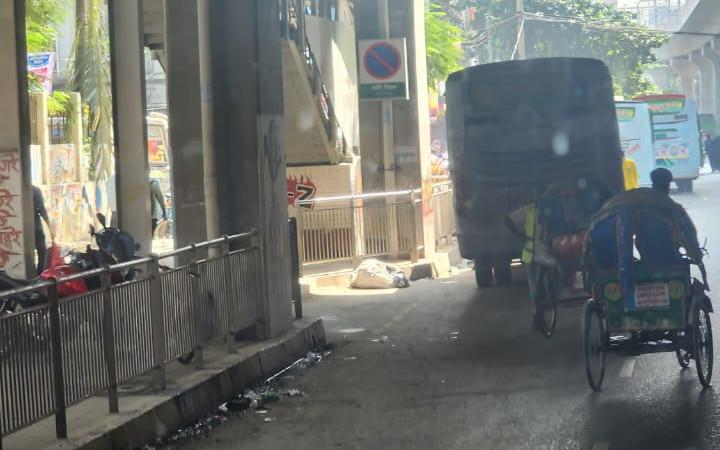No Parking: (357, 37, 408, 101)
